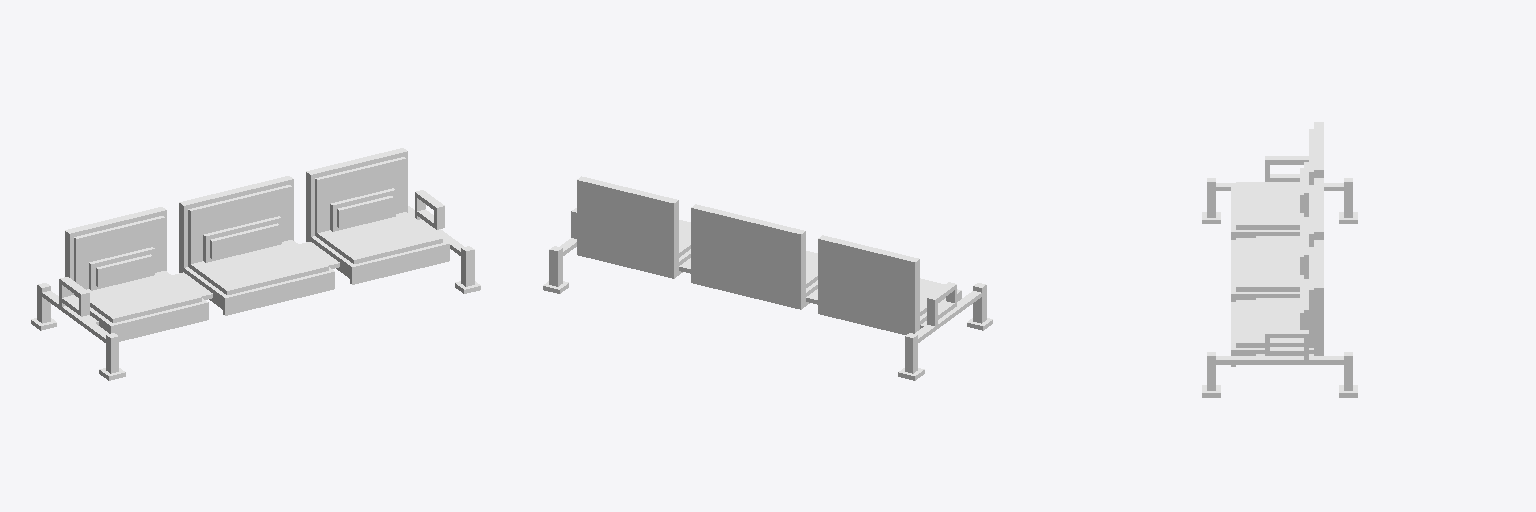
File: Halfthreechair.obj
The picture shows the model from 3 angles: view 1: azimuth 30°, elevation 25°; view 2: azimuth 150°, elevation 25°; view 3: azimuth 270°, elevation 25°; orthographic projection.
Parts seen in each view (by area): view 1: object 1; view 2: object 1; view 3: object 1.
Part boxes in pixels (x1,y1,x2,y2): object 1: (31,148,480,380); object 1: (543,176,992,380); object 1: (1202,122,1357,397).
Bounding box in the file's own units: 8.8 × 2.3 × 3.2.